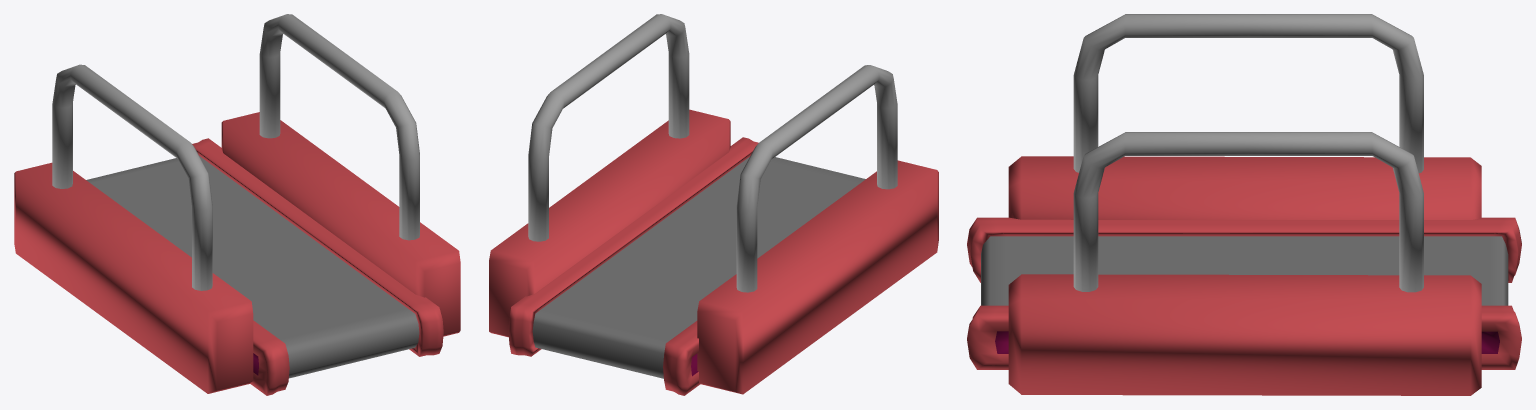
File: treadmil.fbx
3 renders of one model, left to right at view 1: azimuth 30°, elevation 25°; view 2: azimuth 150°, elevation 25°; view 3: azimuth 270°, elevation 25°, orthographic. The views are drawn at different scales.
Parts seen in each view (by area): view 1: Cube.003; view 2: Cube.003; view 3: Cube.003.
Part boxes in pixels (x1,y1,x2,y2): Cube.003: (14, 14, 460, 395); Cube.003: (489, 14, 938, 395); Cube.003: (967, 14, 1521, 395).
Bounding box in the file's own units: 479 × 391 × 784.
